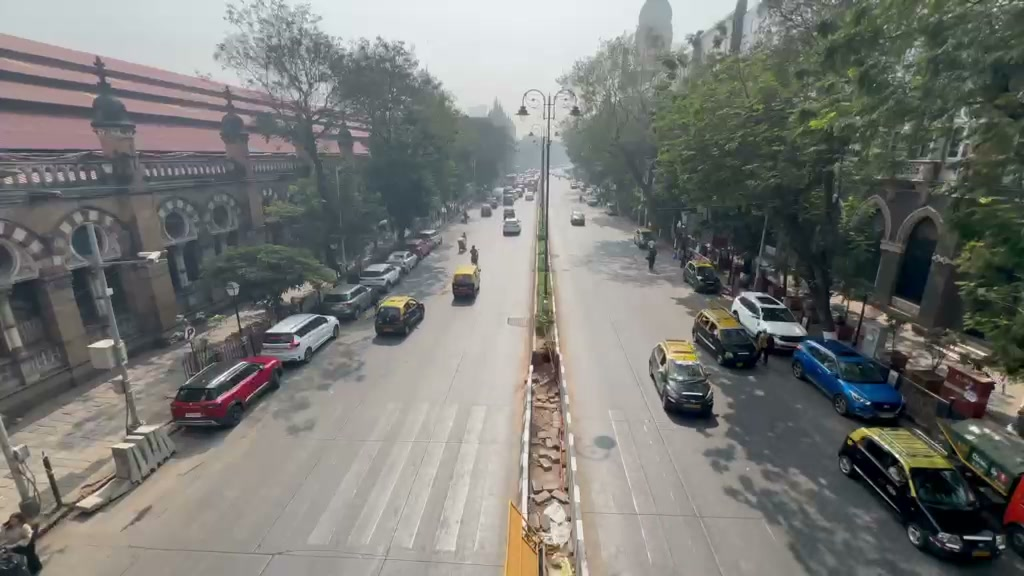car: (836, 424, 1005, 564), (790, 336, 906, 423), (169, 354, 282, 428), (937, 415, 1024, 504), (648, 339, 715, 417), (730, 292, 810, 351), (690, 309, 763, 369), (260, 312, 340, 366), (314, 281, 377, 322), (373, 294, 424, 338), (683, 261, 722, 294), (357, 262, 401, 290), (451, 265, 480, 305), (386, 249, 418, 272), (405, 234, 437, 257), (501, 210, 522, 237), (570, 211, 586, 227)
